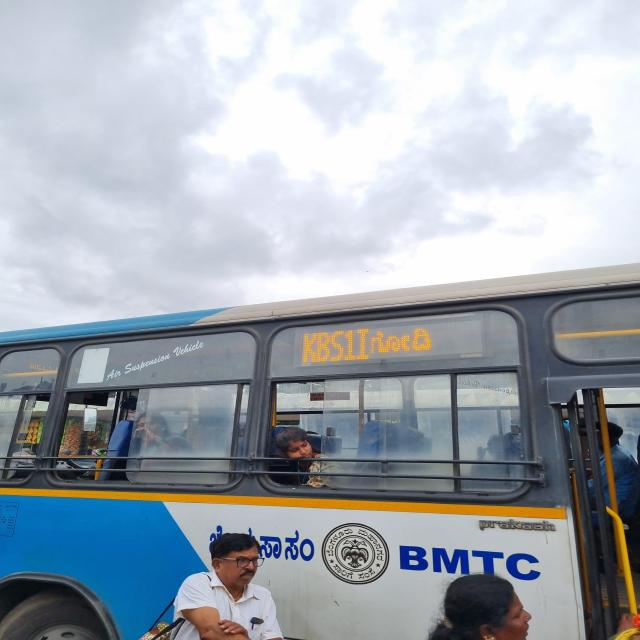bus: (0, 246, 640, 640)
display: (283, 311, 487, 368)
dnumber: (298, 325, 372, 365)
